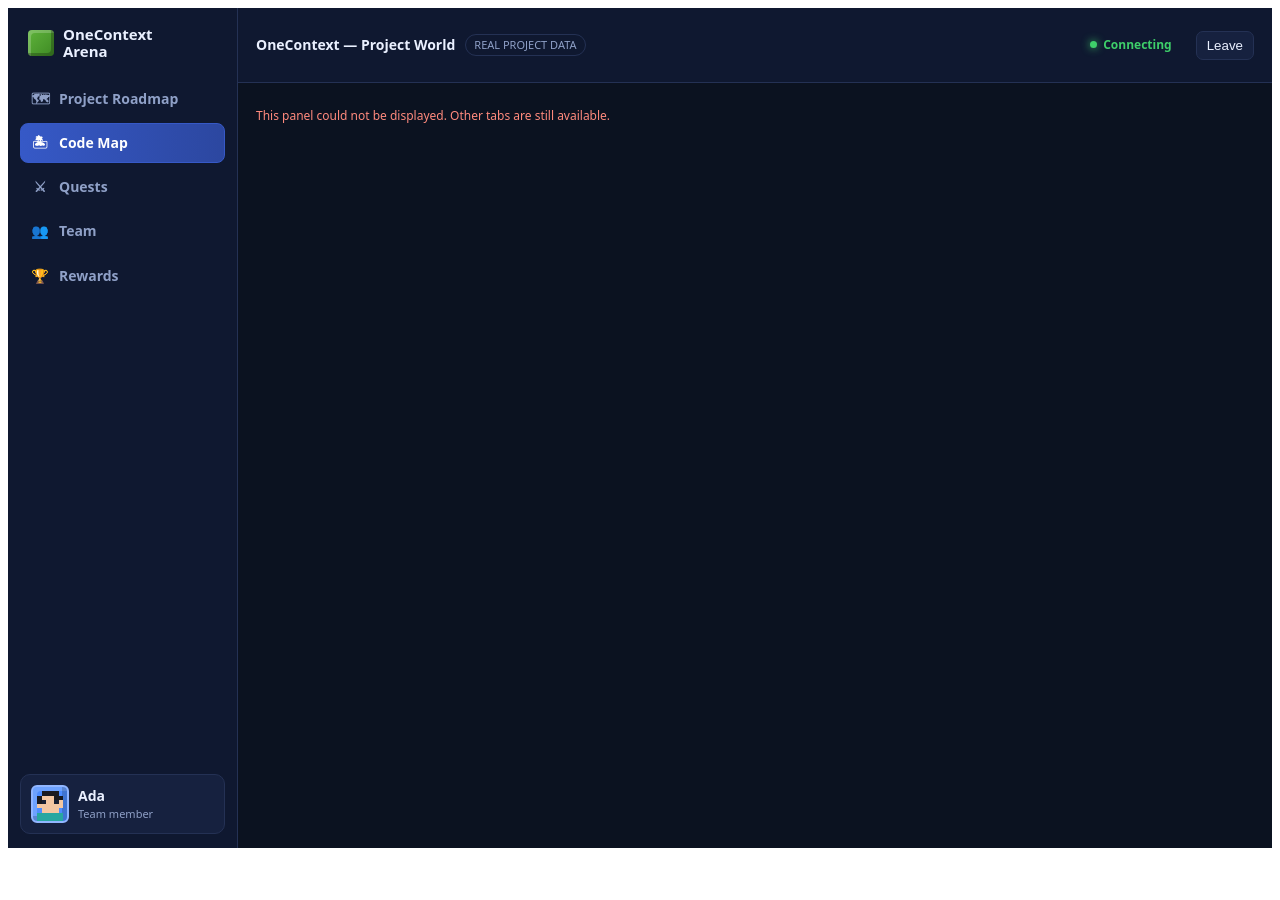
ArenaWorkspace › keeps tab navigation available when a panel render fails
This screenshot has width=1280, height=900.
Expected: the message shows "This panel could not be displayed", top-left (256, 107), bottom-right (610, 124)
Click the tab "👥 Team" at [122, 232], box top-left (20, 211), bottom-right (225, 252)
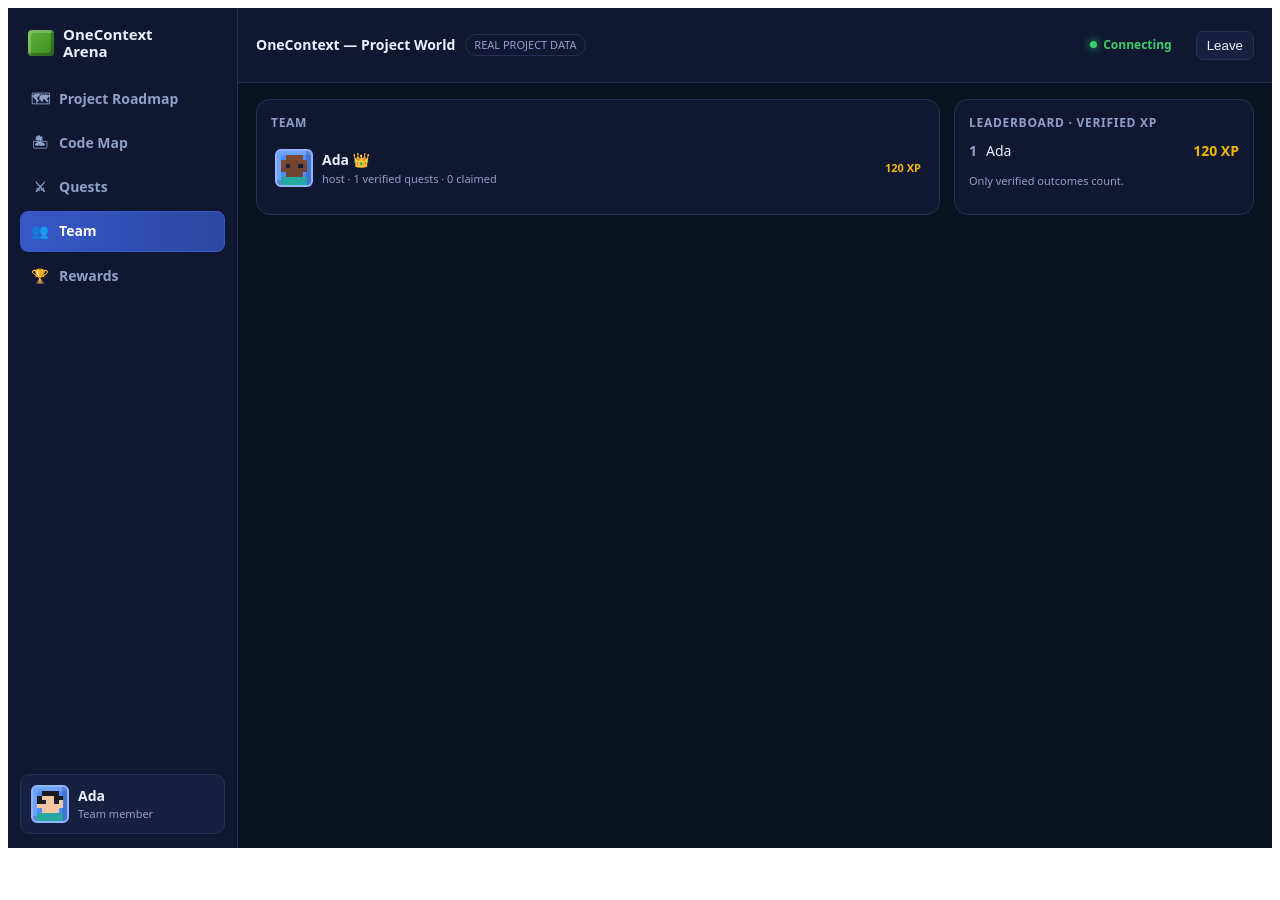
Expected: the 2nd text "Ada" is shown, top-left (78, 786), bottom-right (105, 805)
Result: the panel "Team" is shown at top-left (256, 99), bottom-right (1254, 215)
